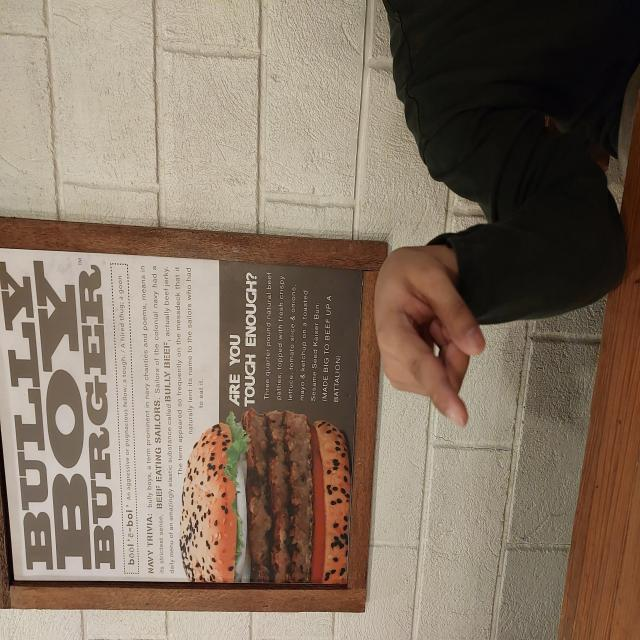Z: (210, 372, 382, 485)
